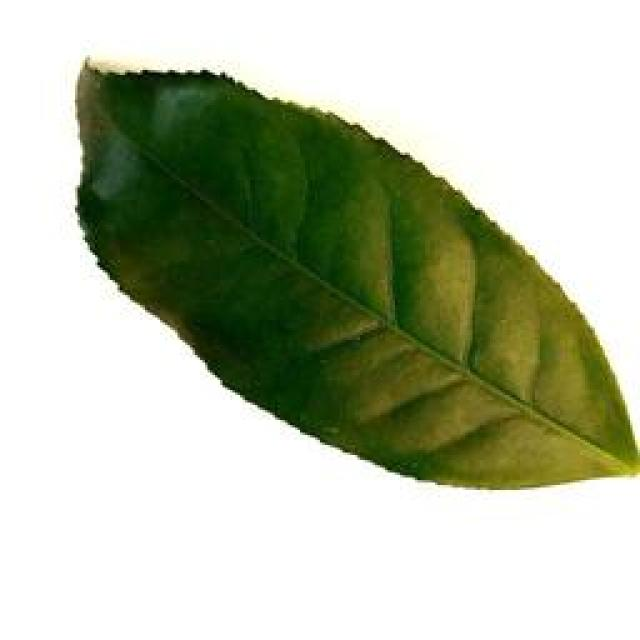Healthy: (78, 66, 640, 495)
